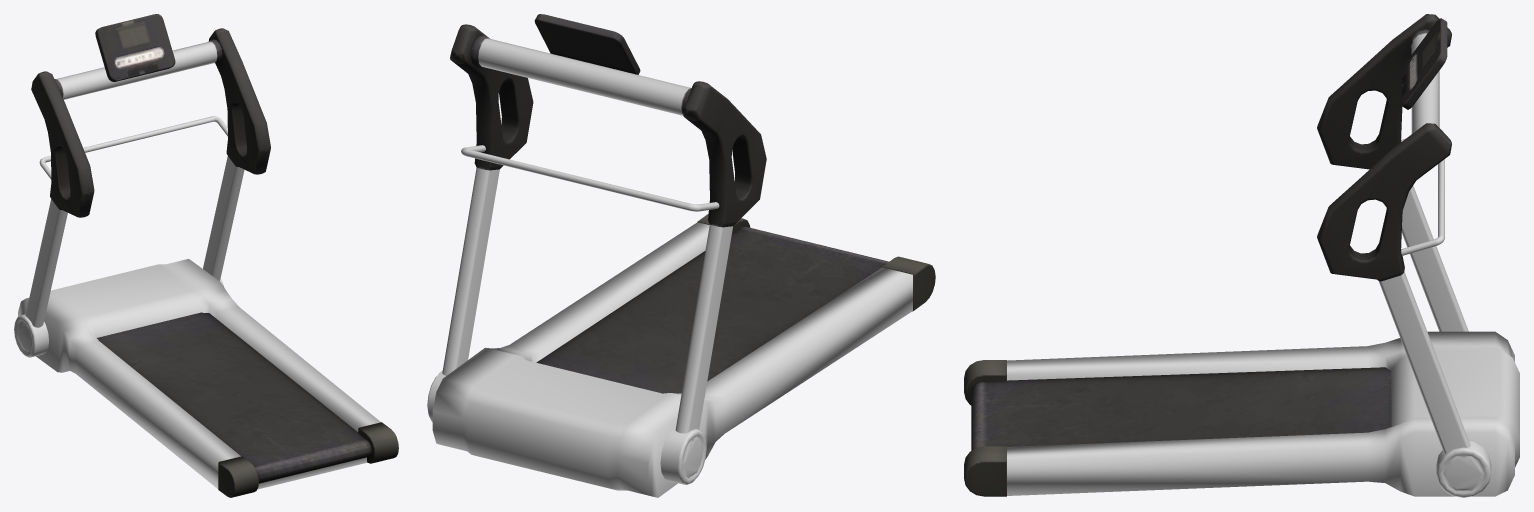
File: laufband.fbx
3 views of the same model, side by side, from view 1: azimuth 30°, elevation 25°; view 2: azimuth 150°, elevation 25°; view 3: azimuth 270°, elevation 25° (orthographic). The views are drawn at different scales.
Parts seen in each view (by area): view 1: Mesh; view 2: Mesh; view 3: Mesh.
Boxes of the visible parts, x1,y1,x2,y2 form: Mesh: (14, 14, 398, 497); Mesh: (427, 14, 935, 497); Mesh: (964, 14, 1519, 497).
Size of the model in its own units: 97.88 by 158 by 193.
